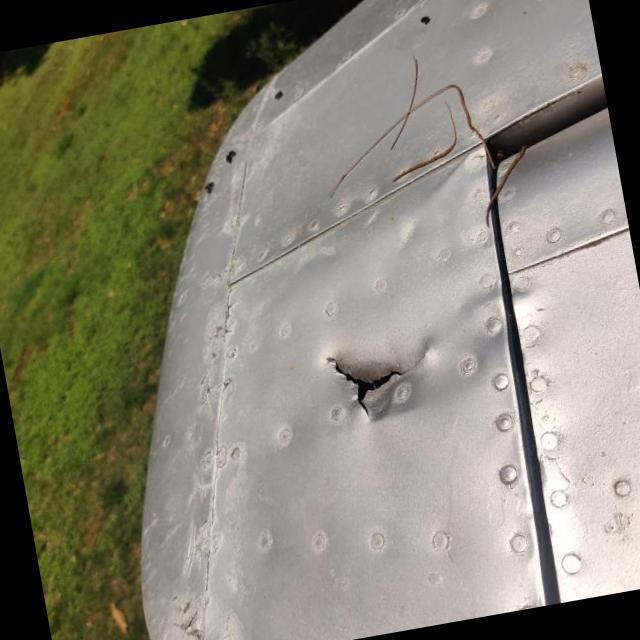Rupture: (307, 318, 452, 451)
